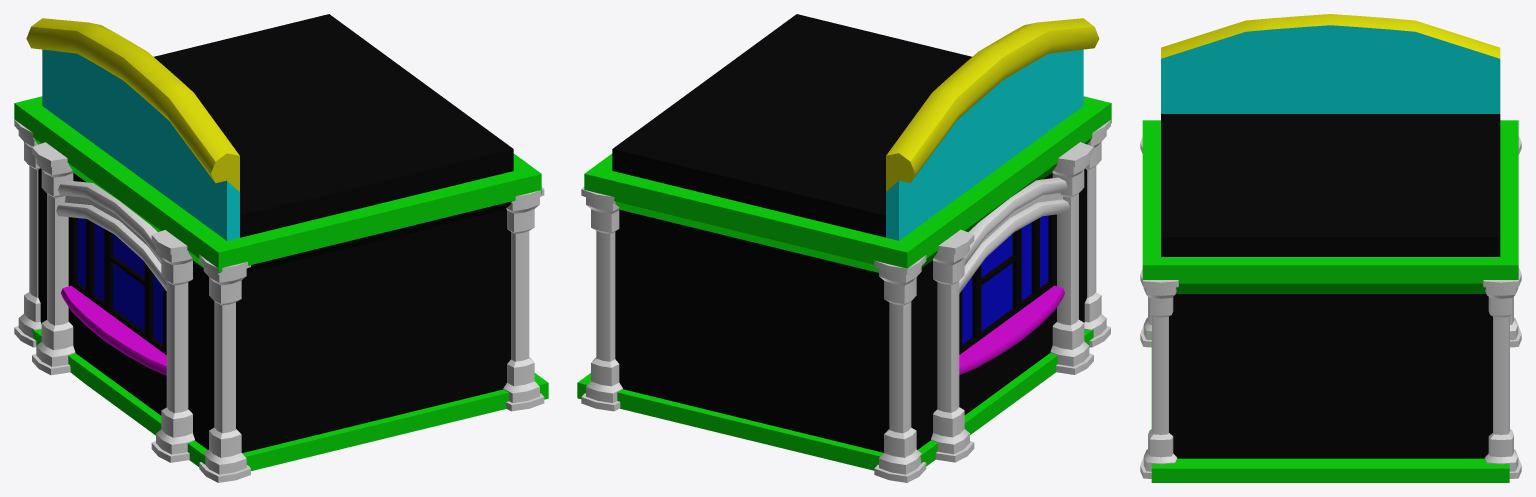
File: ice cream shop.fbx
The picture shows the model from 3 angles, left to right: view 1: azimuth 30°, elevation 25°; view 2: azimuth 150°, elevation 25°; view 3: azimuth 270°, elevation 25°; orthographic projection. The views are drawn at different scales.
Visible parts, largest first — view 1: pCube104, pCube108, pCube111, pCube112, pCube280, pCube113, pCube109, pCube21; view 2: pCube104, pCube113, pCube112, pCube111, pCube281, pCube108, pCube109, pCube21; view 3: pCube104, pCube281, pCube280.
Boxes of the visible parts, x1,y1,x2,y2 form: pCube104: (14,14,548,470); pCube108: (199,255,250,482); pCube111: (151,230,194,462); pCube112: (32,142,75,375); pCube280: (503,186,544,411); pCube113: (14,119,41,347); pCube109: (56,201,166,290); pCube21: (58,180,161,262); pCube104: (577,14,1111,470); pCube113: (874,255,926,482); pCube112: (931,229,974,462); pCube111: (1050,142,1093,374); pCube281: (581,186,622,411); pCube108: (1084,120,1110,347); pCube109: (959,199,1069,293); pCube21: (964,177,1067,264); pCube104: (1142,14,1518,482); pCube281: (1483,267,1521,478); pCube280: (1140,269,1178,478).
Size of the model in its own units: 12.75 by 12.28 by 12.99.
